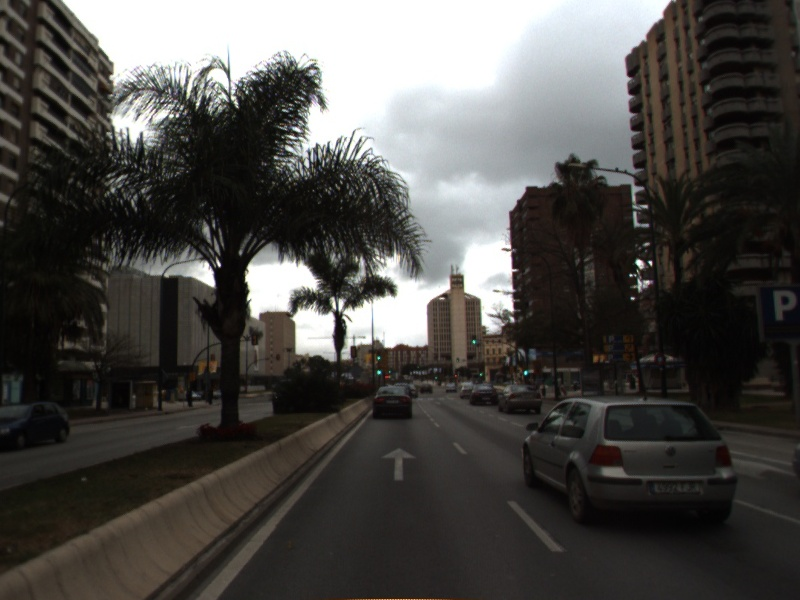STRAIGHT: (379, 446, 420, 483)
